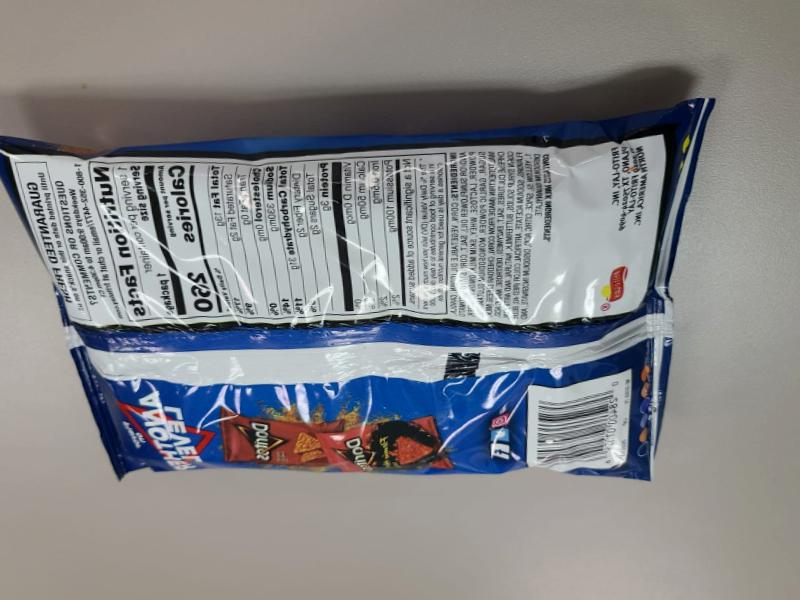doritos: (16, 64, 783, 475)
